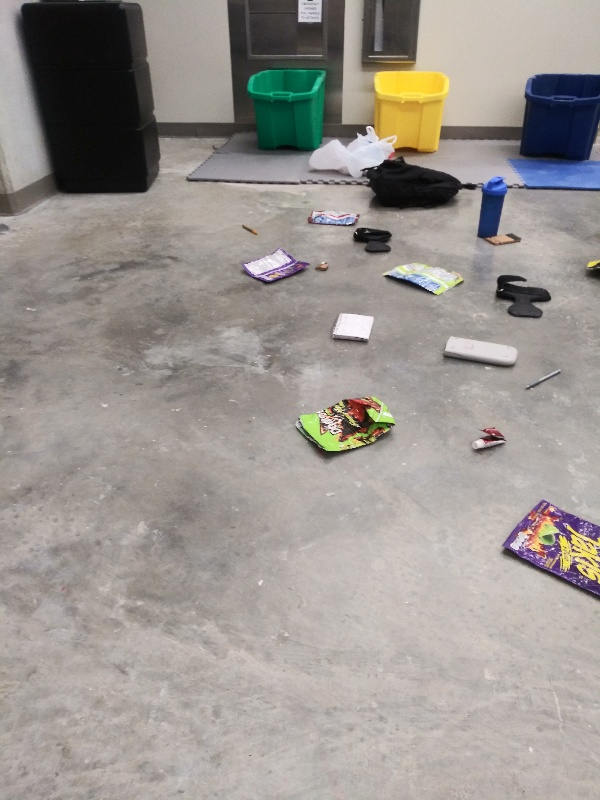bag: (499, 496, 600, 607), (287, 392, 399, 459), (376, 257, 469, 299), (238, 243, 312, 286), (304, 203, 364, 228)
